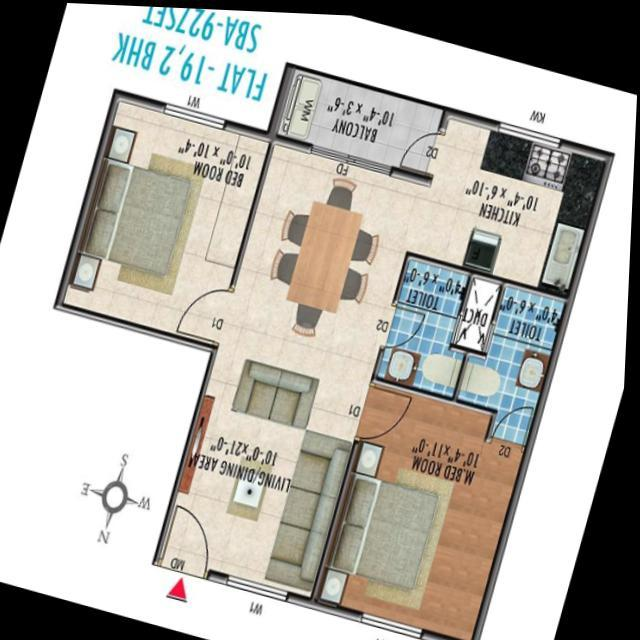Balcony-Sitout: (267, 67, 449, 177)
Bedroom: (52, 85, 272, 347)
Bedroom with Toilet: (321, 278, 573, 640)
Dining: (256, 160, 394, 346)
Enterance-Foyer: (146, 484, 237, 610)
Kitchen: (402, 95, 618, 298)
Living: (154, 334, 380, 606)
Toilet: (470, 273, 576, 421), (377, 249, 480, 397)
